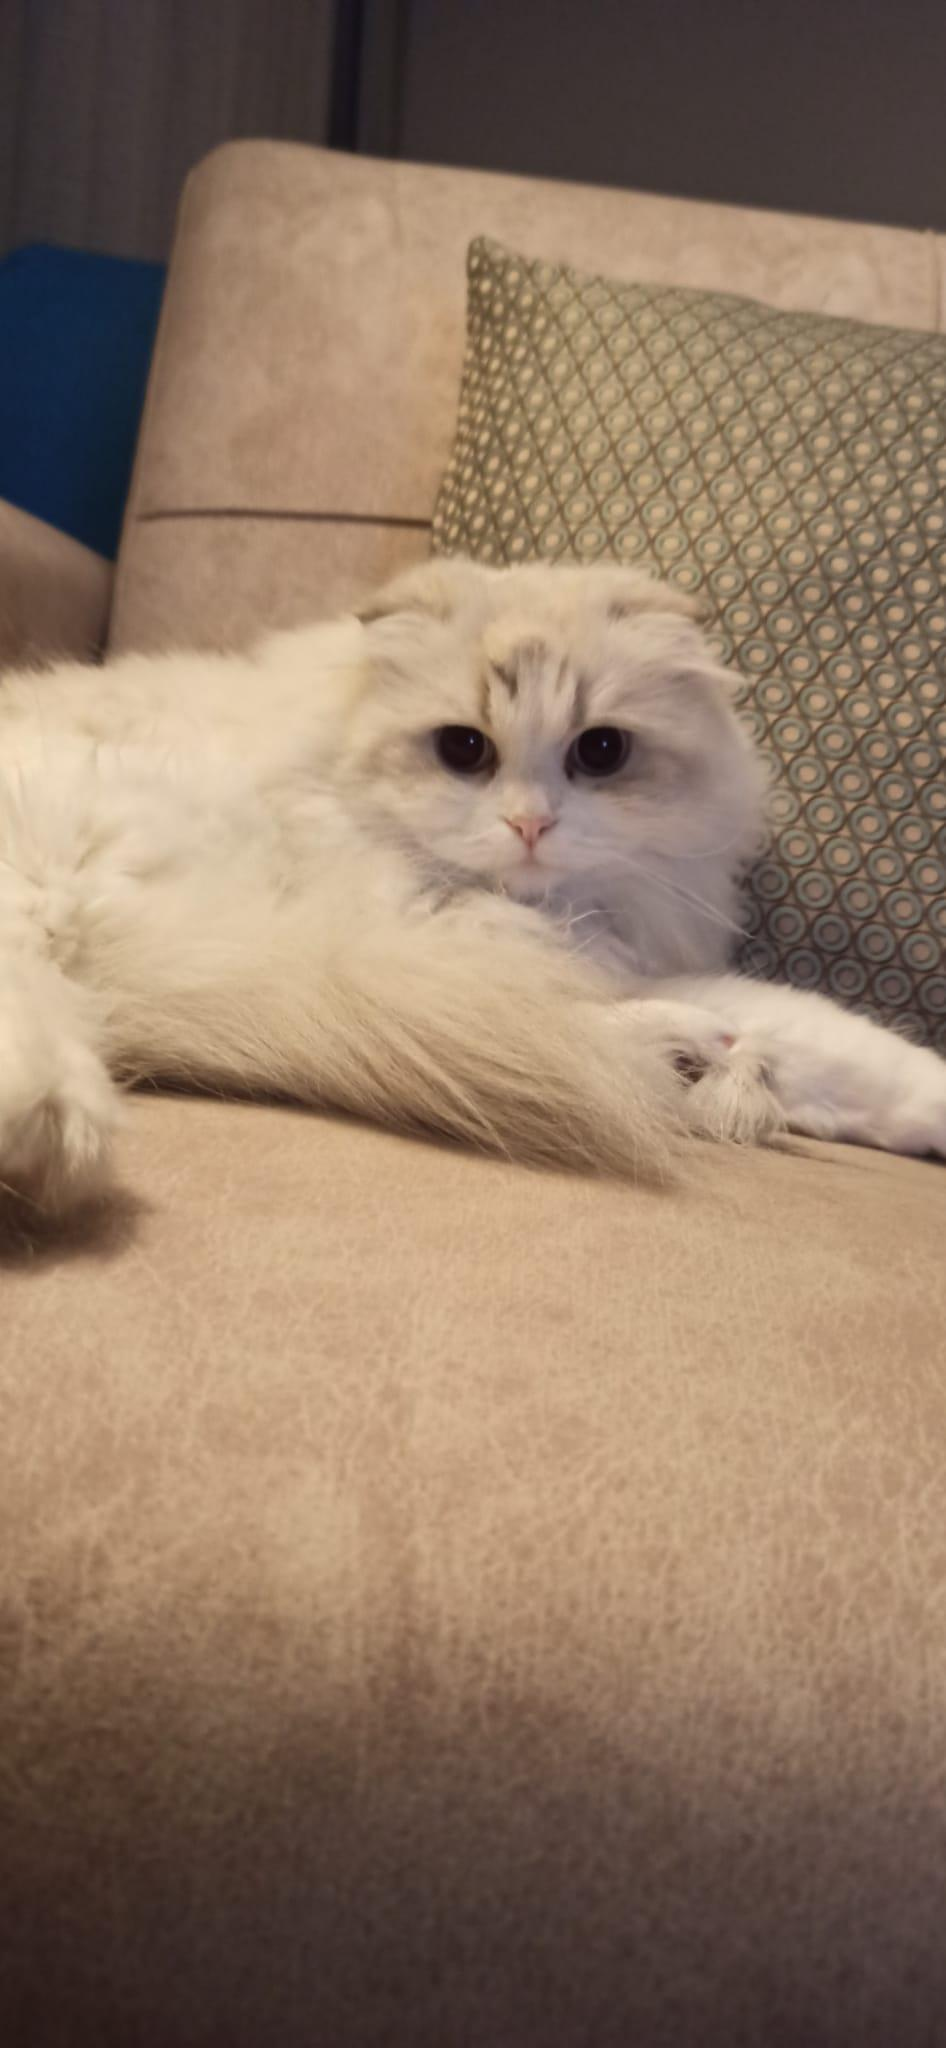kedo: (7, 564, 946, 1211)
